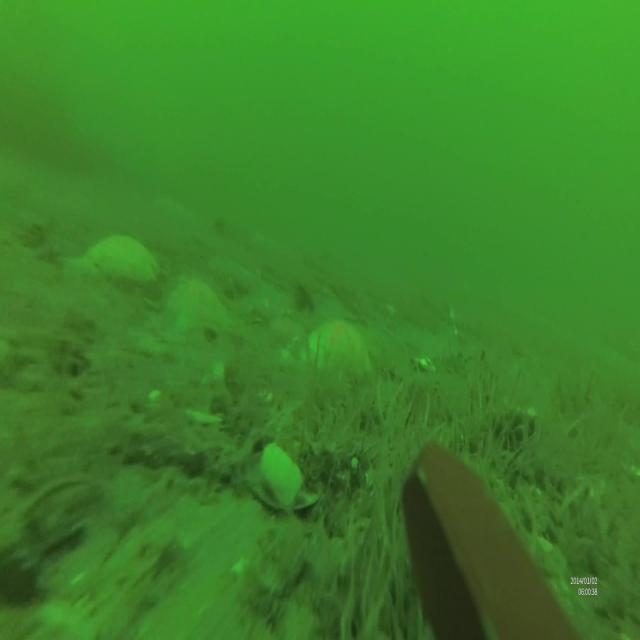scallop: (246, 441, 318, 514)
starfish: (153, 276, 246, 339), (283, 320, 373, 376), (65, 233, 160, 285)
